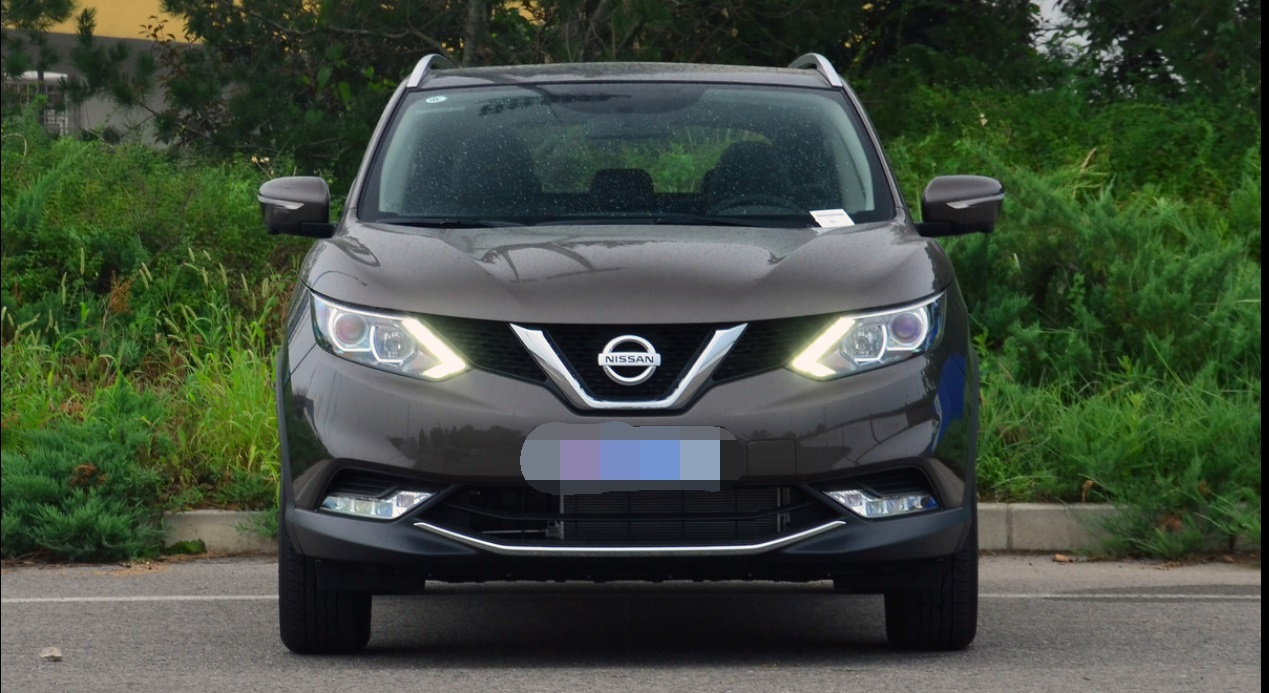SUV: (257, 43, 1003, 650)
